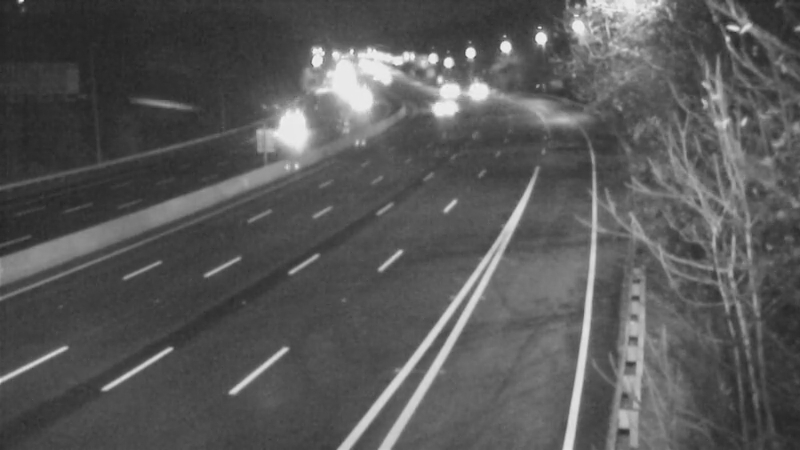vehicle: (451, 58, 501, 108), (418, 79, 468, 129), (266, 105, 316, 155)
